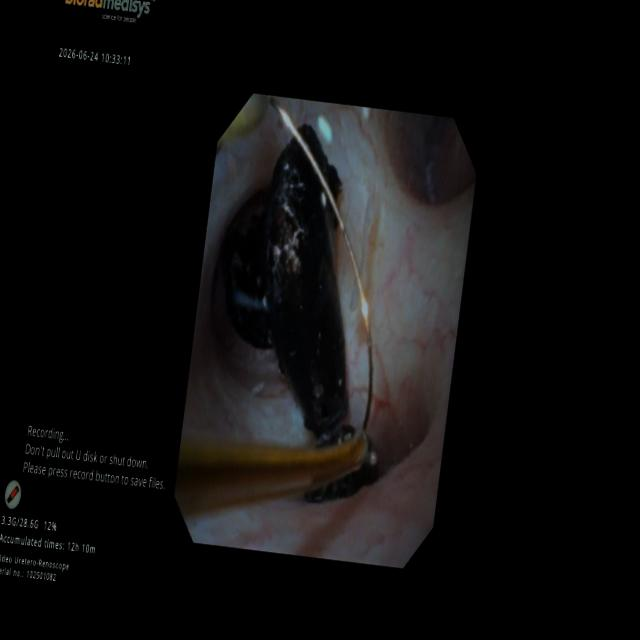stone-new: (218, 137, 352, 446), (305, 460, 376, 502), (316, 423, 357, 446)
